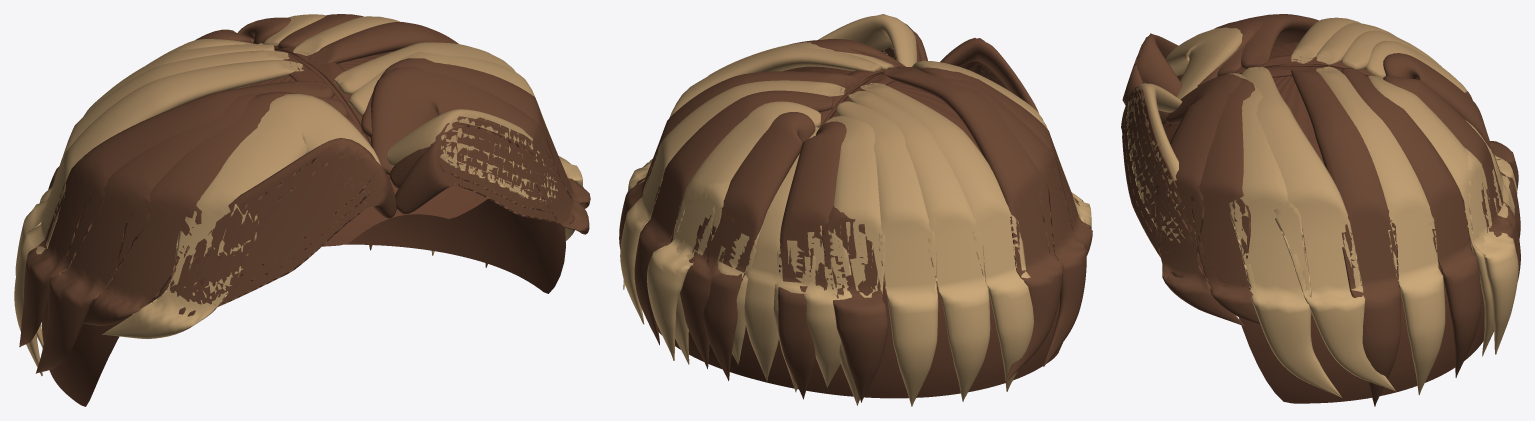
Rendered from Highlights-dbec89c8a129251-hair.glb.
3 views of the same model, side by side, from view 1: azimuth 30°, elevation 25°; view 2: azimuth 150°, elevation 25°; view 3: azimuth 270°, elevation 25° (orthographic). The views are drawn at different scales.
Parts seen in each view (by area): view 1: 226 hair / Hair / chestnut226.002, 226 hair / Hair / recessed roots251.002, 226 hair / Hair / main251.001, 226 hair / Hair / accent251.001, 226 hair / Hair / recessed roots251.003; view 2: 226 hair / Hair / main251.001, 226 hair / Hair / accent251.001, 226 hair / Hair / chestnut226.002, 226 hair / Hair / recessed roots251.002, 226 hair / Hair / recessed roots251.003; view 3: 226 hair / Hair / chestnut226.002, 226 hair / Hair / main251.001, 226 hair / Hair / accent251.001, 226 hair / Hair / recessed roots251.002, 226 hair / Hair / recessed roots251.003.
Part boxes in pixels (x1,y1,x2,y2): 226 hair / Hair / chestnut226.002: (19, 42, 590, 373); 226 hair / Hair / recessed roots251.002: (41, 50, 565, 406); 226 hair / Hair / main251.001: (14, 14, 487, 376); 226 hair / Hair / accent251.001: (15, 14, 434, 348); 226 hair / Hair / recessed roots251.003: (274, 45, 390, 178); 226 hair / Hair / main251.001: (619, 71, 1033, 406); 226 hair / Hair / accent251.001: (620, 80, 990, 405); 226 hair / Hair / chestnut226.002: (623, 14, 1092, 382); 226 hair / Hair / recessed roots251.002: (658, 67, 1062, 398); 226 hair / Hair / recessed roots251.003: (818, 69, 894, 127); 226 hair / Hair / chestnut226.002: (1121, 14, 1395, 397); 226 hair / Hair / main251.001: (1291, 17, 1520, 406); 226 hair / Hair / accent251.001: (1316, 23, 1518, 395); 226 hair / Hair / recessed roots251.002: (1163, 42, 1484, 403); 226 hair / Hair / recessed roots251.003: (1168, 55, 1373, 127).
Bounding box in the file's own units: 1.07 × 0.5895 × 0.8316.
